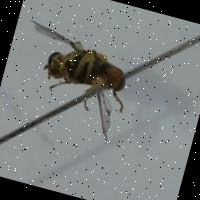Oriental-fruit-fly: (4, 9, 144, 144)
